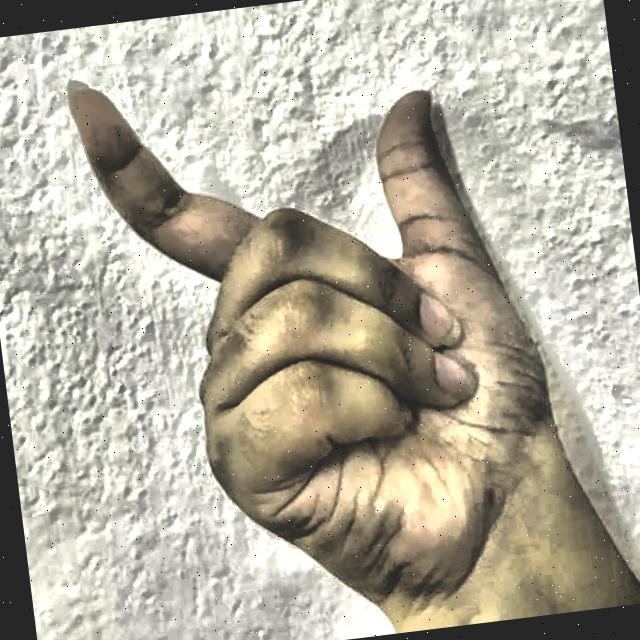ChandraBindu: (44, 0, 597, 640)
